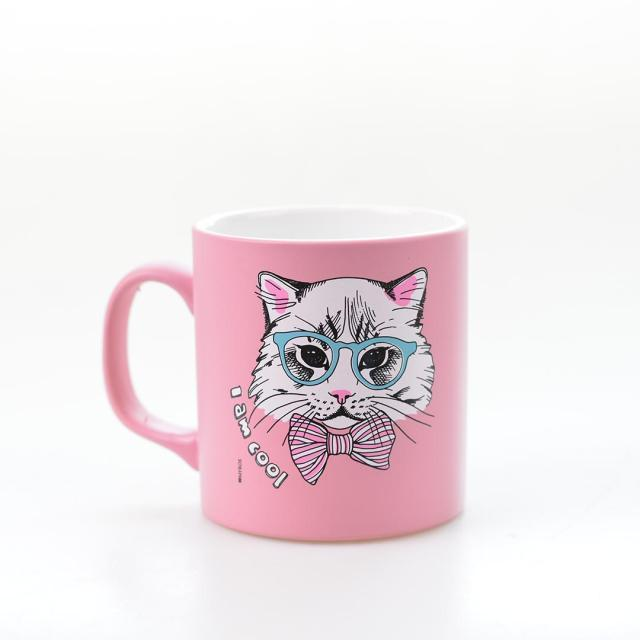Coffee Mug: (100, 205, 472, 542)
